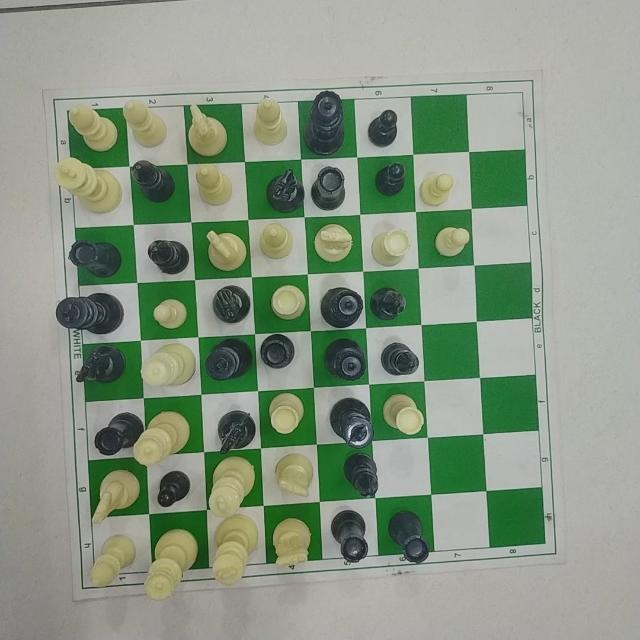black-bishop: (131, 157, 181, 207), (342, 451, 384, 499), (145, 236, 193, 276), (371, 286, 411, 326), (379, 340, 421, 378)
black-king: (52, 288, 127, 336), (202, 333, 252, 387), (326, 394, 374, 450)
black-knight: (75, 341, 127, 389), (215, 402, 257, 452), (263, 166, 303, 215), (212, 282, 250, 324)
black-pawn: (364, 106, 401, 150), (154, 472, 194, 512), (373, 159, 412, 198)
black-queen: (301, 88, 349, 156), (320, 285, 366, 330), (326, 336, 370, 382)
black-rook: (387, 508, 436, 572), (65, 236, 129, 280), (92, 410, 142, 456), (329, 510, 371, 564), (306, 165, 351, 210), (259, 330, 292, 372)
white-bishop: (86, 534, 135, 594), (66, 100, 118, 152), (122, 95, 172, 149), (250, 93, 292, 149), (192, 162, 237, 208), (255, 218, 294, 264)
white-king: (52, 154, 125, 215), (210, 513, 262, 588), (205, 453, 259, 518)
white-knight: (85, 467, 146, 530), (180, 101, 234, 159), (270, 514, 314, 570), (203, 225, 246, 275), (313, 216, 356, 264), (275, 450, 315, 496)
white-pawn: (418, 170, 457, 210), (432, 221, 470, 259), (148, 294, 187, 330)
white-queen: (140, 525, 200, 601), (133, 405, 193, 466), (139, 338, 195, 390)
white-rook: (380, 391, 430, 439), (267, 387, 310, 436), (371, 227, 415, 269), (267, 282, 307, 320)
